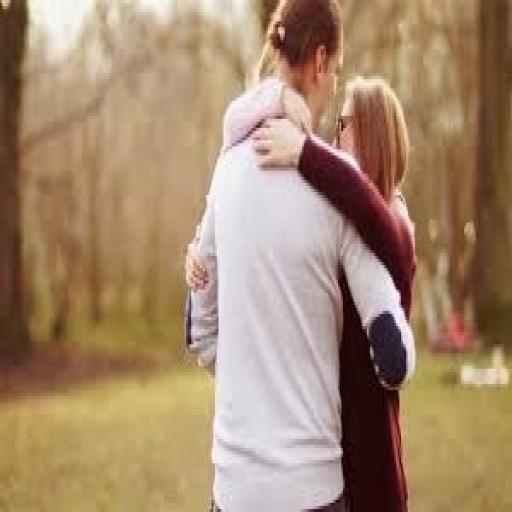hugging: (183, 3, 418, 509)
